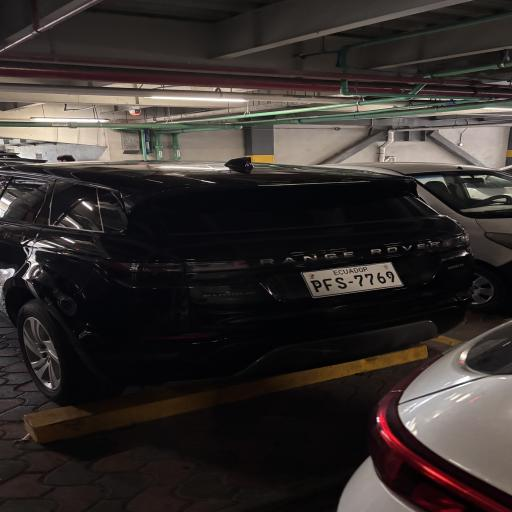license_plate: (302, 263, 403, 297)
